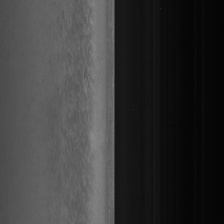silk_spot: (70, 33, 97, 170)
